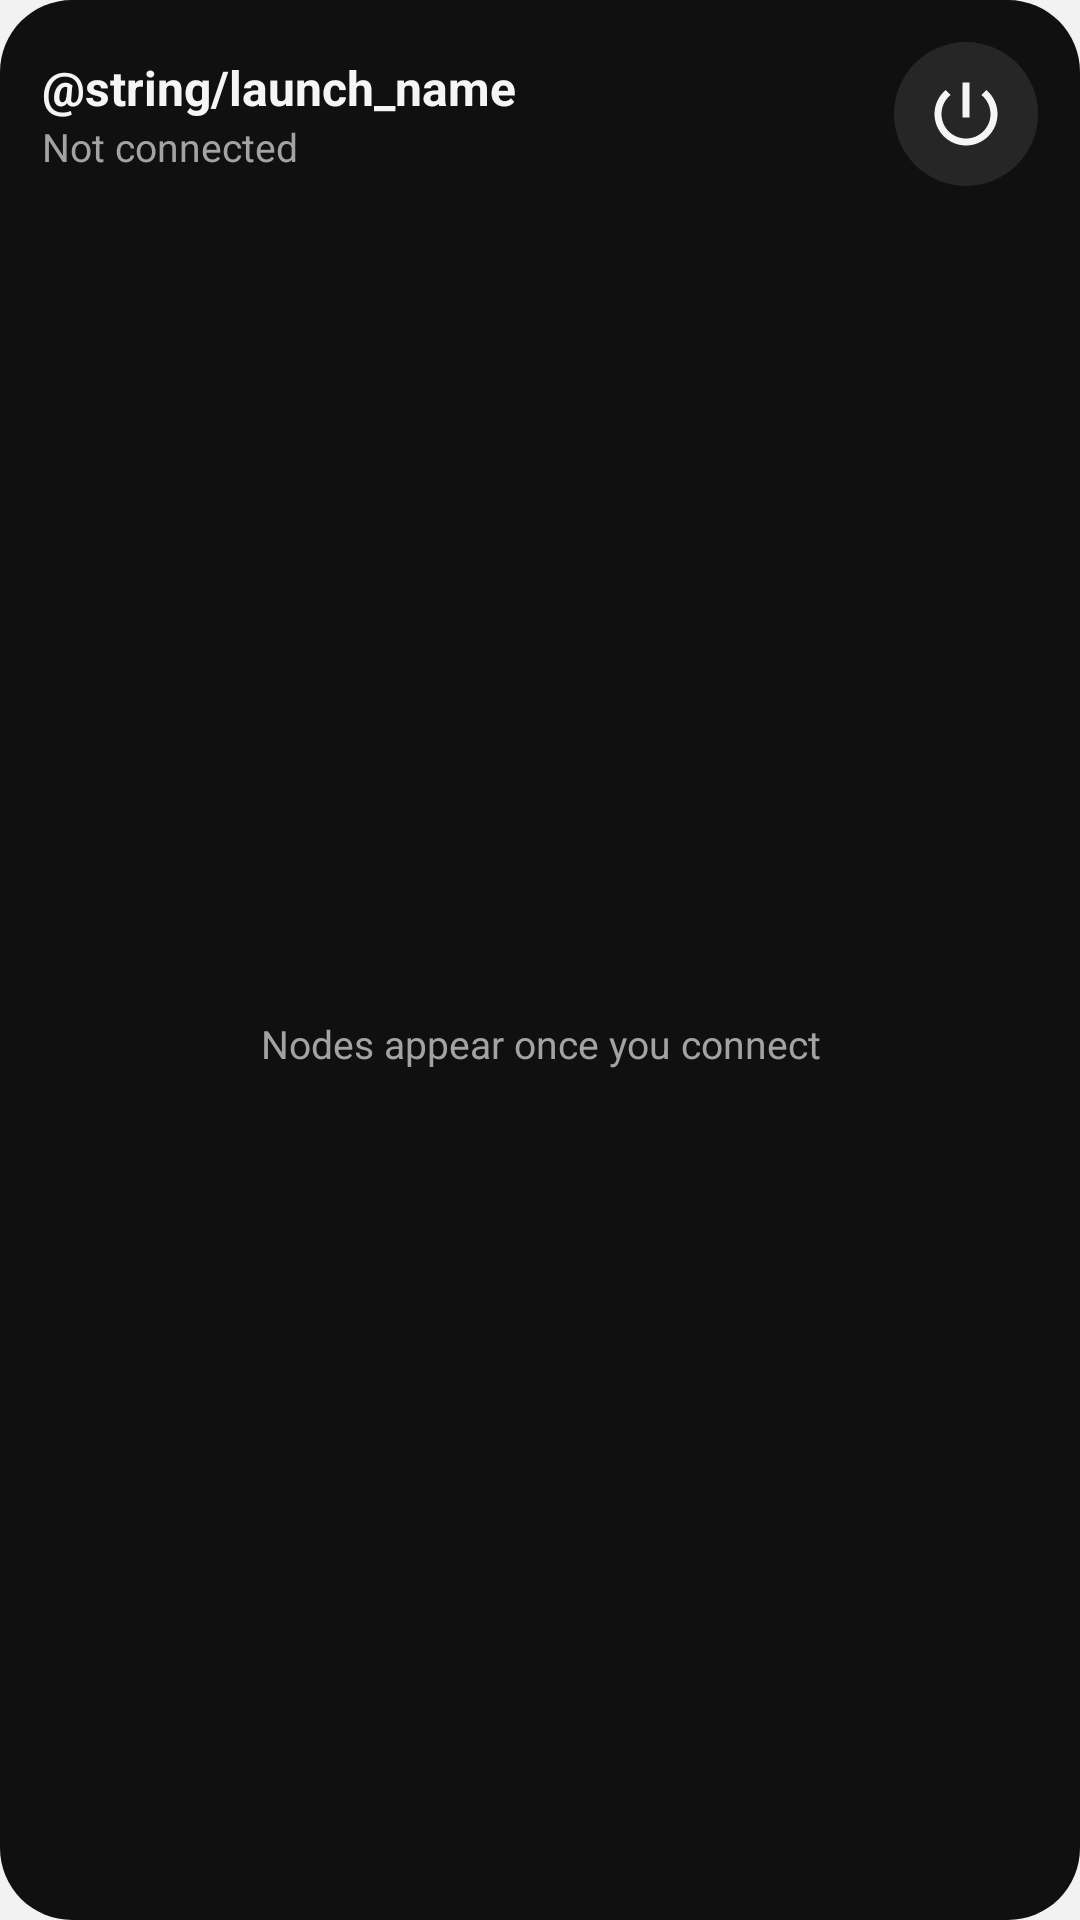

Screen size 1080 × 1920. Icon name, then its center in pixels as [x,y]:
Turn VPN on or off: [966,114]
